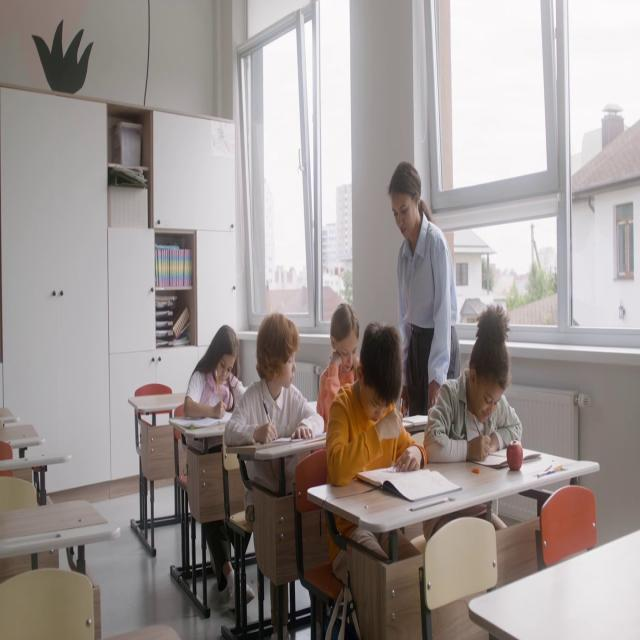reading: (316, 303, 361, 433)
writing: (323, 322, 425, 636), (184, 319, 254, 612), (229, 311, 325, 508), (424, 304, 522, 468)
